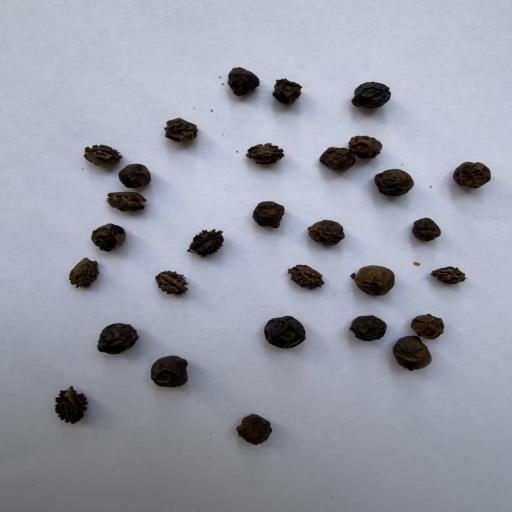Black_pepper: (91, 320, 145, 356), (346, 262, 400, 298), (261, 316, 312, 352), (305, 214, 353, 252), (230, 410, 277, 448), (391, 335, 435, 374), (348, 75, 393, 113), (365, 164, 416, 197), (147, 357, 194, 392), (155, 115, 205, 146), (451, 158, 492, 191), (223, 66, 262, 100), (247, 196, 286, 228), (113, 162, 157, 190), (345, 313, 386, 343), (411, 310, 452, 338), (267, 76, 304, 107), (91, 222, 127, 253), (407, 218, 446, 246), (320, 145, 354, 177), (350, 136, 383, 158)
papaya_seed: (44, 381, 91, 428), (180, 222, 228, 262), (279, 257, 325, 297), (151, 266, 196, 300), (241, 137, 287, 170), (68, 256, 106, 290), (104, 191, 156, 215), (430, 261, 470, 292), (82, 140, 116, 170)
